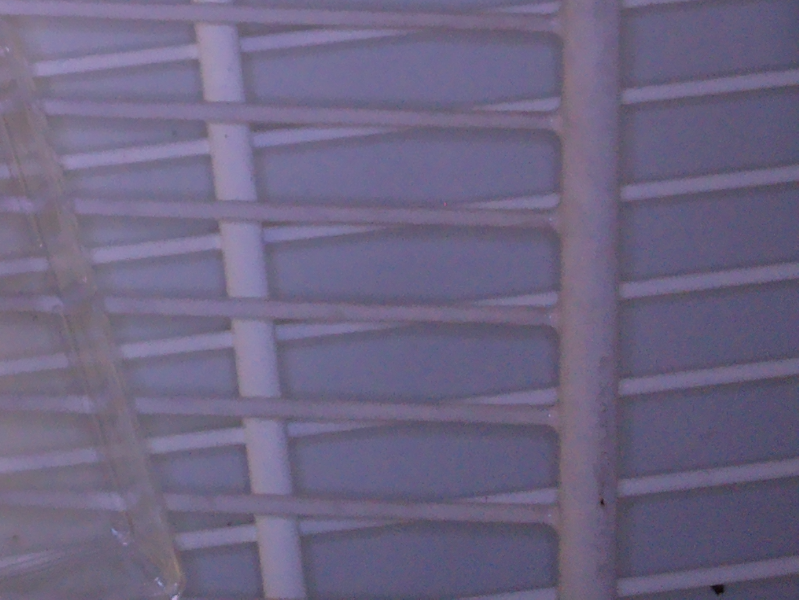plate: (1, 28, 187, 600)
